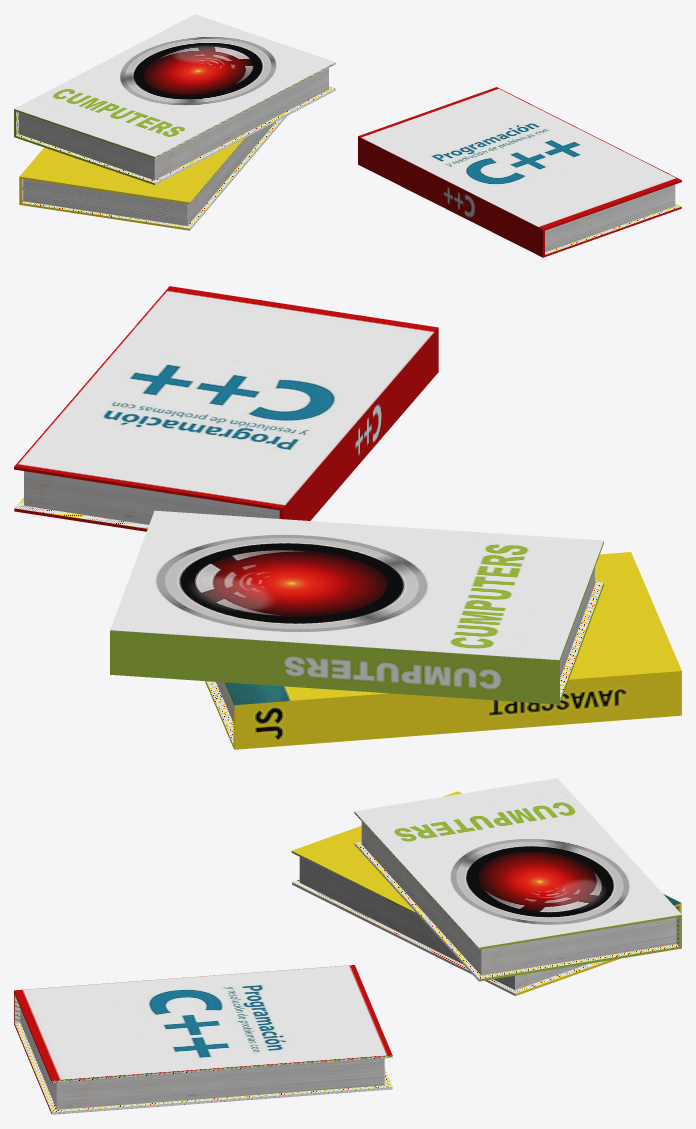
Rendered from Books.FBX.
The picture shows the model from 3 angles, top to bottom: view 1: azimuth 30°, elevation 25°; view 2: azimuth 150°, elevation 25°; view 3: azimuth 270°, elevation 25°; orthographic projection. The views are drawn at different scales.
Parts seen in each view (by area): view 1: Book 1, Book 2, Book 3; view 2: Book 2, Book 1, Book 3; view 3: Book 1, Book 2, Book 3.
Boxes of the visible parts, <box> form: Book 1: <box>358,87,681,257</box>; Book 2: <box>14,14,335,184</box>; Book 3: <box>19,116,286,230</box>; Book 2: <box>110,510,603,704</box>; Book 1: <box>14,286,438,531</box>; Book 3: <box>205,552,681,749</box>; Book 1: <box>14,965,392,1114</box>; Book 2: <box>354,778,681,981</box>; Book 3: <box>291,791,681,995</box>.
Size of the model in its own units: 47.76 by 5.29 by 46.61.
Materials: 1 (1 with a texture image).
